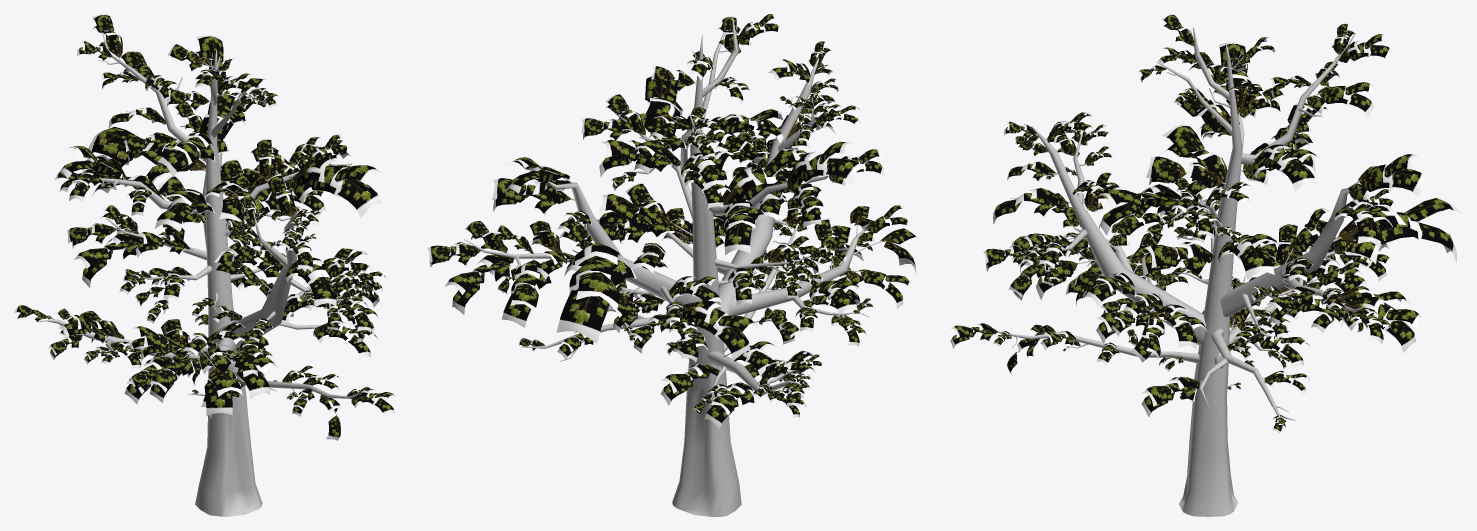
Rendered from Tree 2.FBX.
3 renders of one model, left to right at view 1: azimuth 30°, elevation 25°; view 2: azimuth 150°, elevation 25°; view 3: azimuth 270°, elevation 25°, orthographic. The views are drawn at different scales.
Parts seen in each view (by area): view 1: Tree 2; view 2: Tree 2; view 3: Tree 2.
Boxes of the visible parts, x1,y1,x2,y2 form: Tree 2: [14, 14, 395, 516]; Tree 2: [427, 14, 918, 516]; Tree 2: [950, 14, 1461, 516].
Size of the model in its own units: 130 by 164 by 165.
